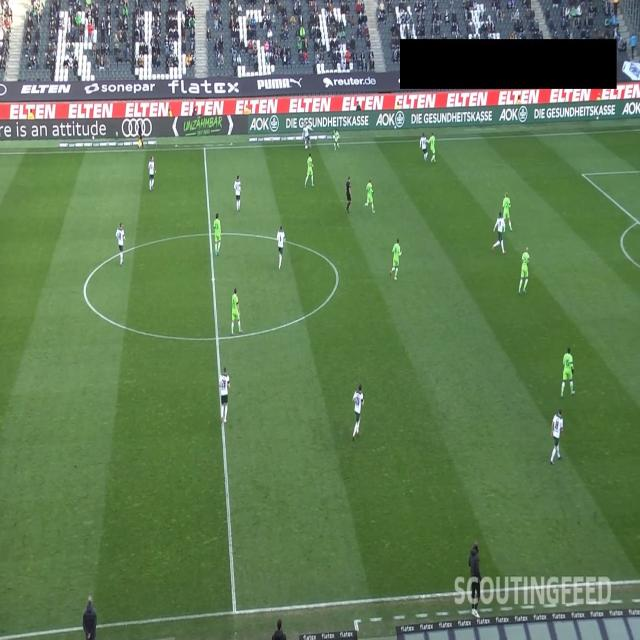ball: (305, 144, 308, 150)
